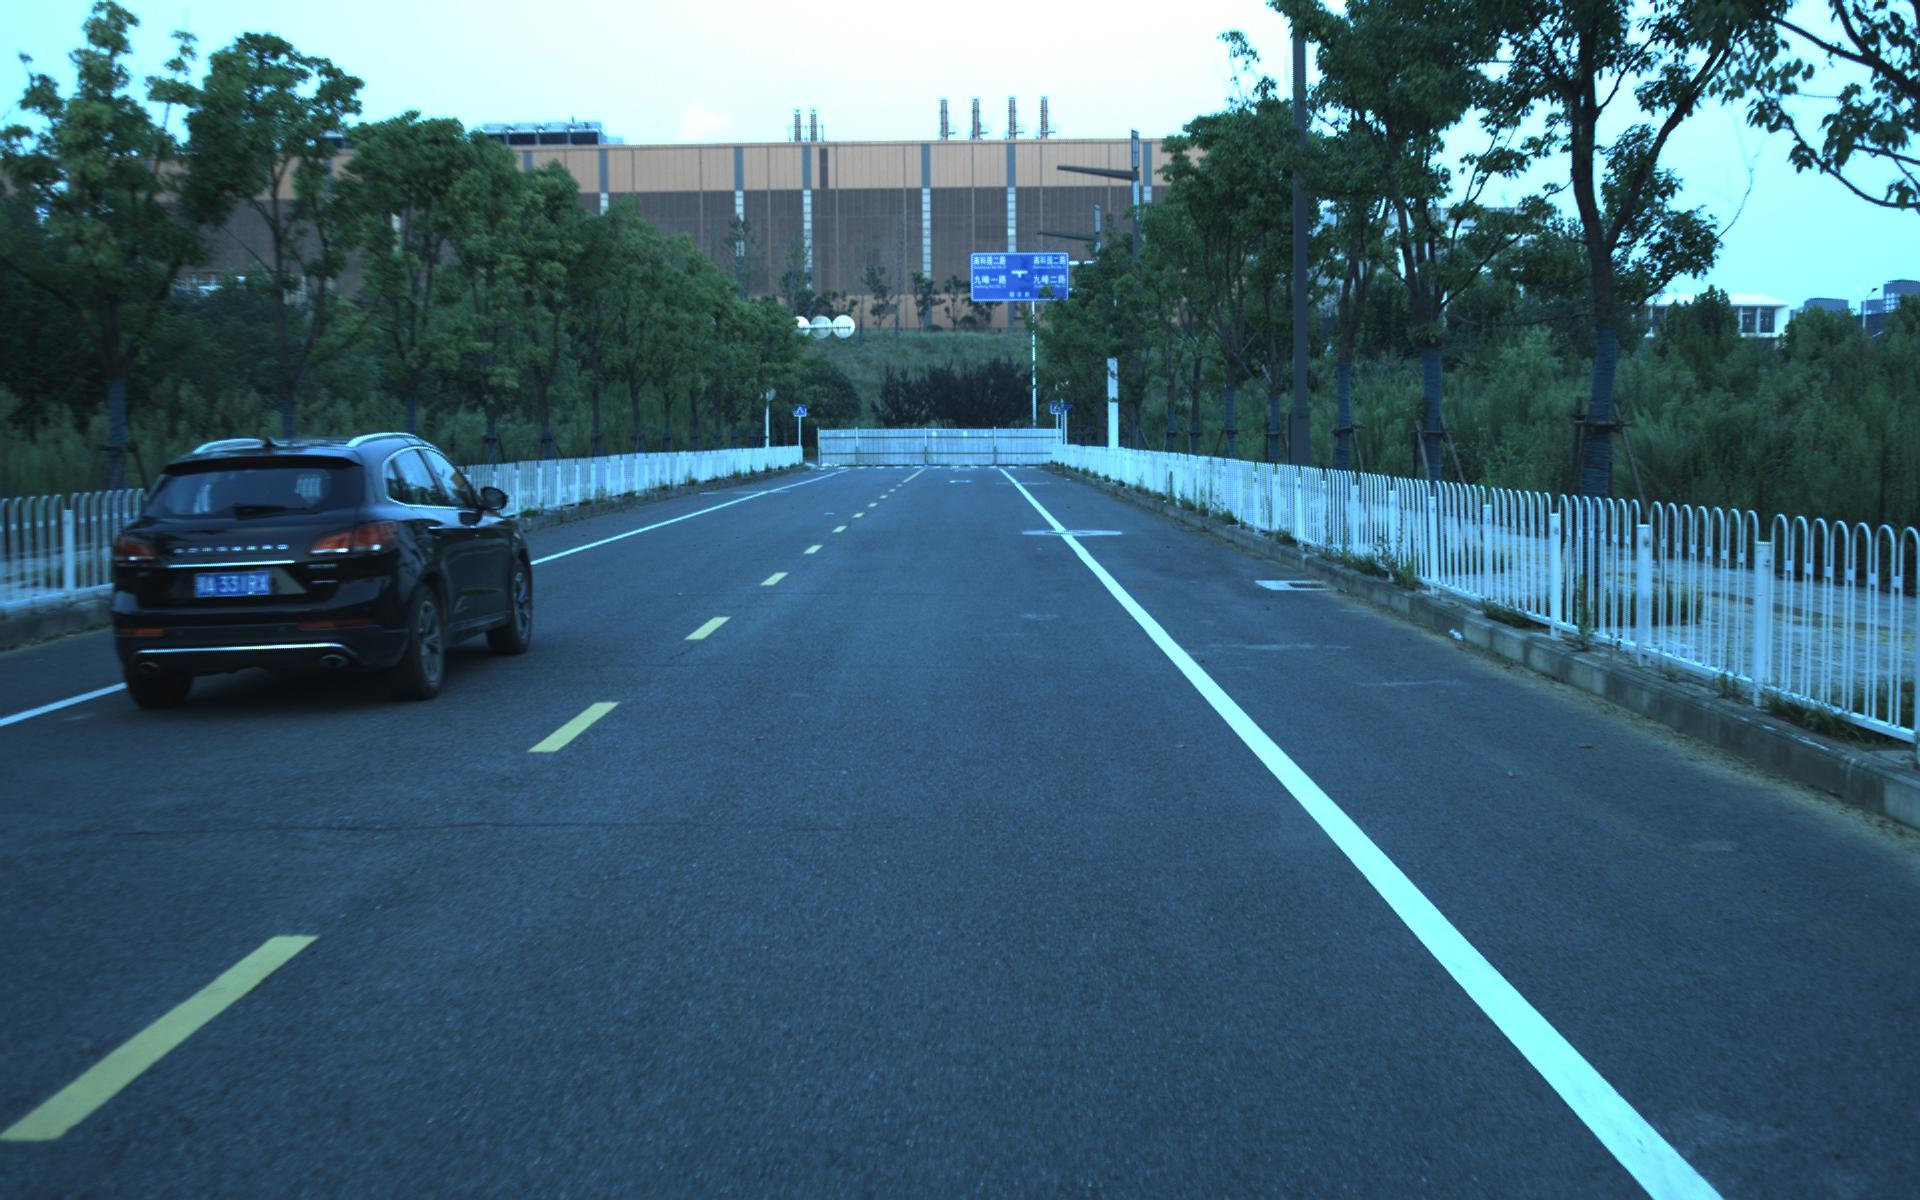Car: (88, 422, 542, 718)
